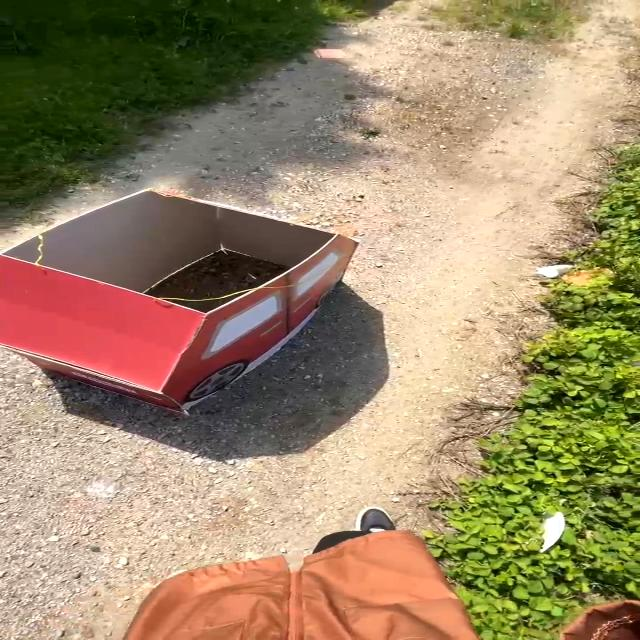red_car: (0, 168, 416, 435)
